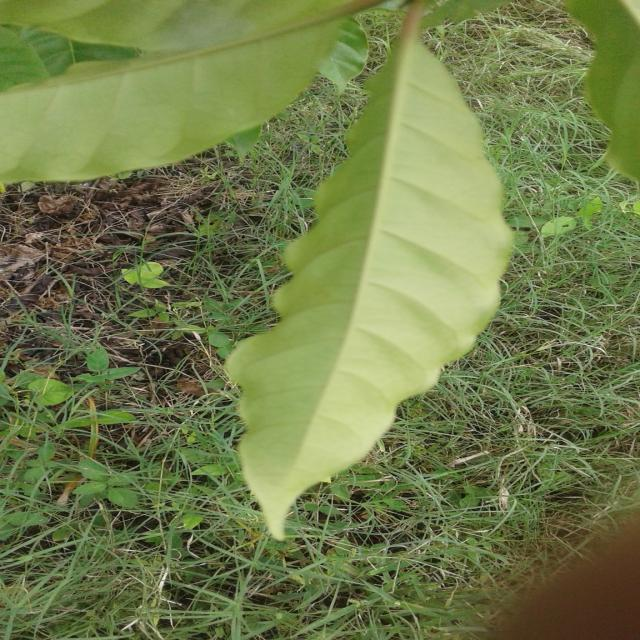Sanas: (224, 0, 514, 541)
